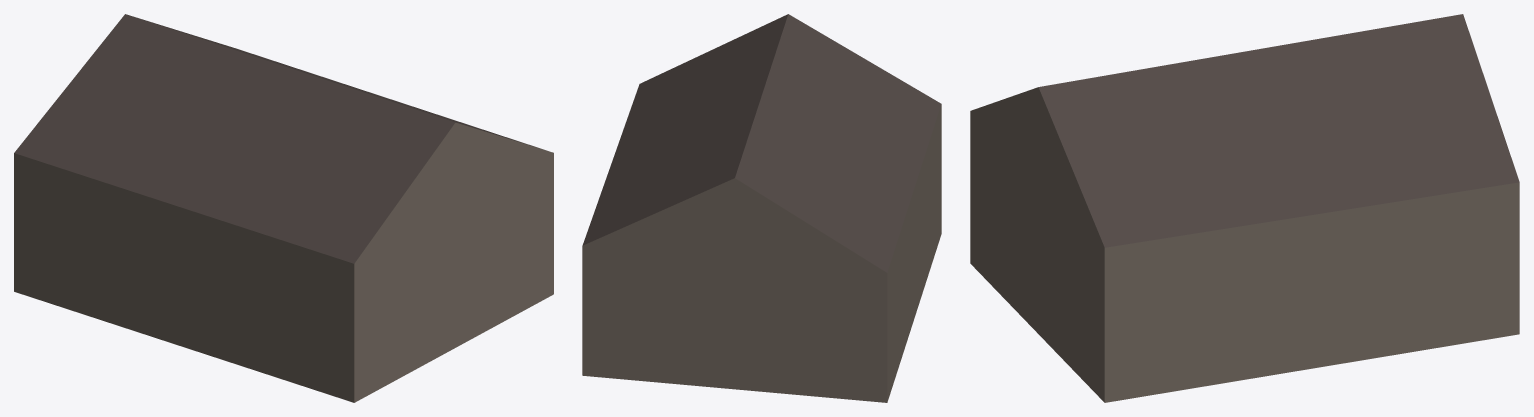
The picture shows the model from 3 angles, left to right: view 1: azimuth 30°, elevation 25°; view 2: azimuth 150°, elevation 25°; view 3: azimuth 270°, elevation 25°; orthographic projection. The views are drawn at different scales.
Visible parts, largest first — view 1: HP-w757482004; view 2: HP-w757482004; view 3: HP-w757482004.
Boxes of the visible parts, x1,y1,x2,y2 form: HP-w757482004: [14, 14, 553, 402]; HP-w757482004: [582, 14, 941, 402]; HP-w757482004: [970, 14, 1519, 402].
Bounding box in the file's own units: 18.21 × 9.75 × 19.66.
